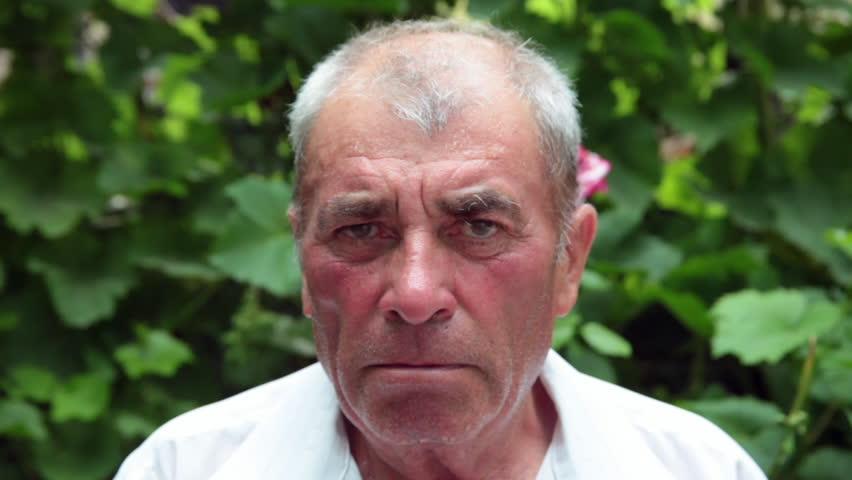sad: (280, 94, 583, 453)
